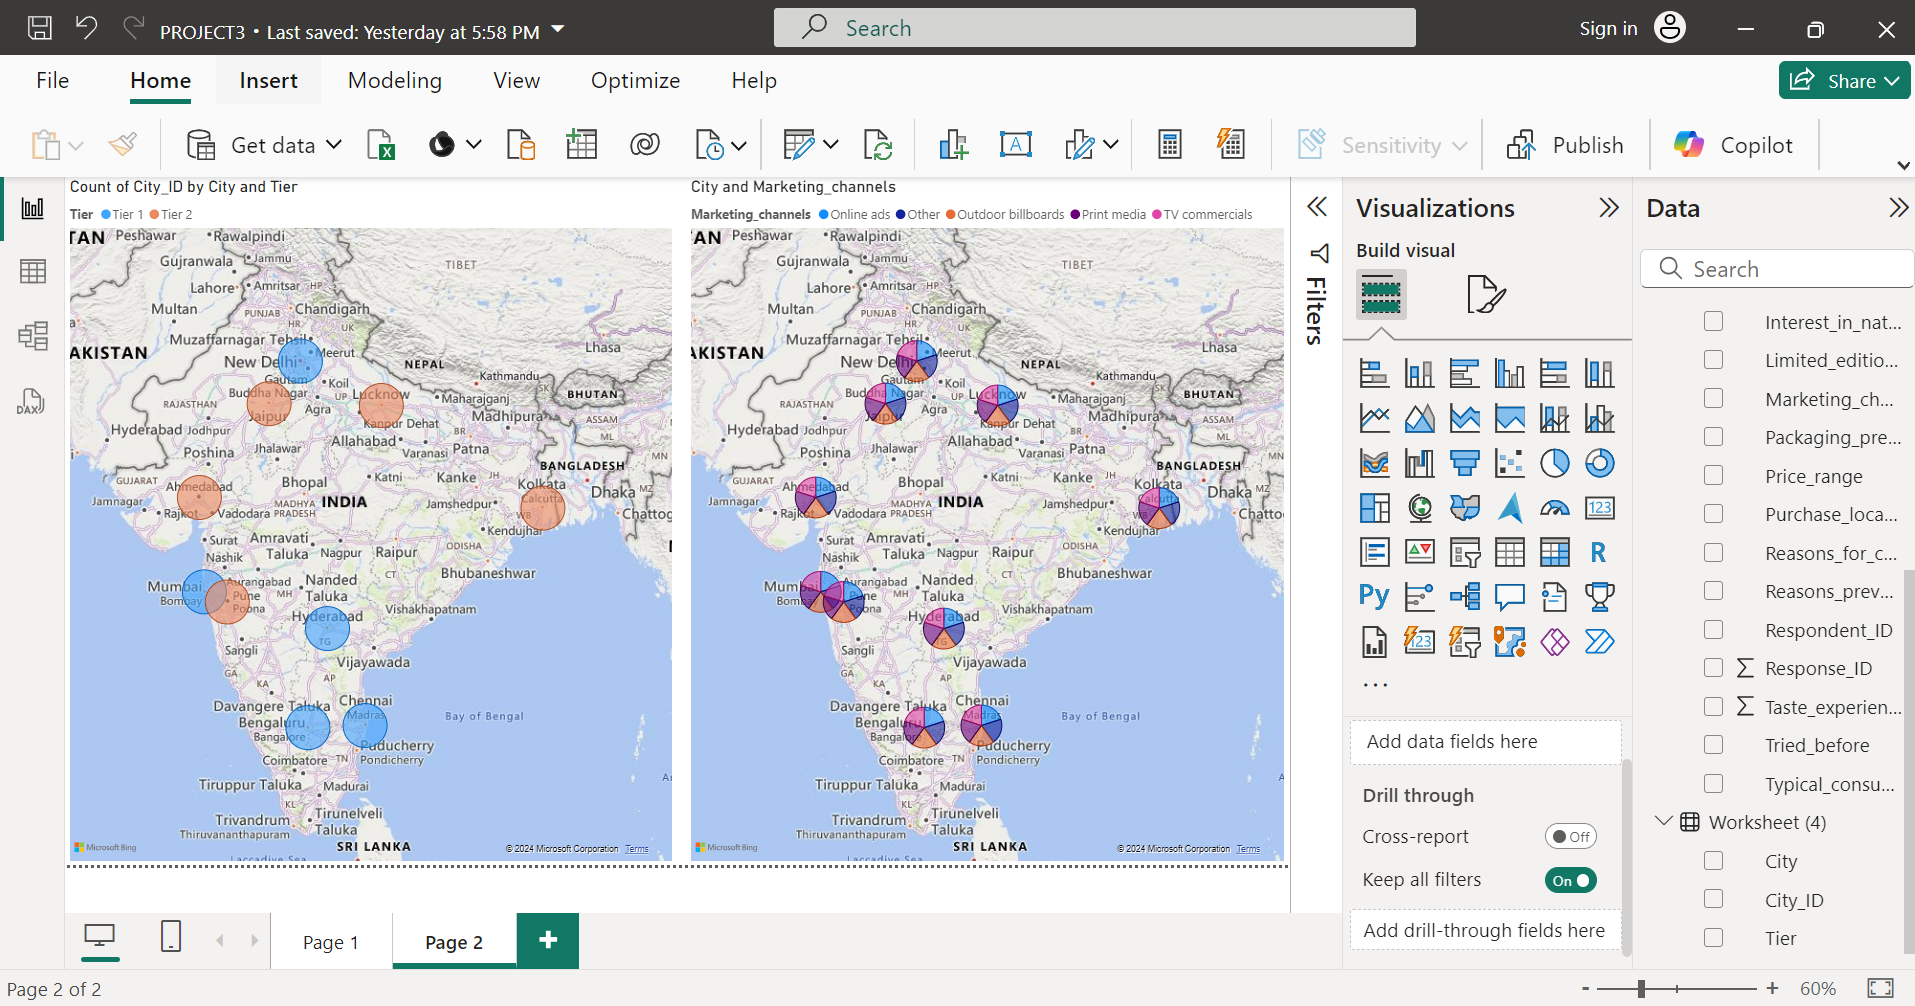

The page's visual inventory and layout, read from the dashboard file:
{"tool":"powerbi","page":{"name":"Page 2","canvas":[1280,720],"ordinal":1},"visuals":[{"type":"map","fields":{"Size":["CountNonNull(Worksheet (4).City_ID)"],"Category":["Worksheet (4).City"],"Series":["Worksheet (4).Tier"]},"box":[0,0,640,720],"z":0},{"type":"map","fields":{"Category":["Worksheet (4).City"],"Series":["Worksheet (3).Marketing_channels"]},"box":[650,0,630,720],"z":1000}]}

Visuals, with their boxes on the page's 1280x720 design canvas (x1, y1, x2, y2). These are canvas units, not pixel positions in the 1915x1006 screenshot, which may show the page scaled, cropped or inside an application window:
map - CountNonNull(Worksheet (4).City_ID) x Worksheet (4).City: x1=0 y1=0 x2=640 y2=720
map - Worksheet (4).City x Worksheet (3).Marketing_channels: x1=650 y1=0 x2=1280 y2=720
